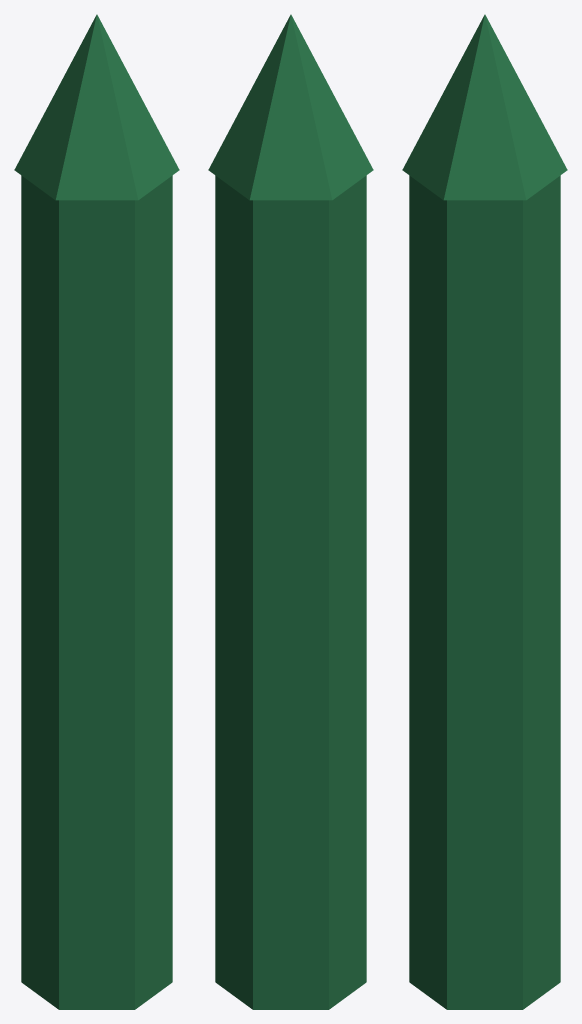
Rendered from prick_gron.glb.
The picture shows the model from 3 angles, left to right: view 1: azimuth 30°, elevation 25°; view 2: azimuth 150°, elevation 25°; view 3: azimuth 270°, elevation 25°; orthographic projection.
Parts seen in each view (by area): view 1: prick_gron; view 2: prick_gron; view 3: prick_gron.
Part boxes in pixels (x1,y1,x2,y2): prick_gron: [14, 14, 179, 1009]; prick_gron: [208, 14, 373, 1009]; prick_gron: [402, 14, 567, 1009].
Bounding box in the file's own units: 0.4157 × 3.1 × 0.48.
